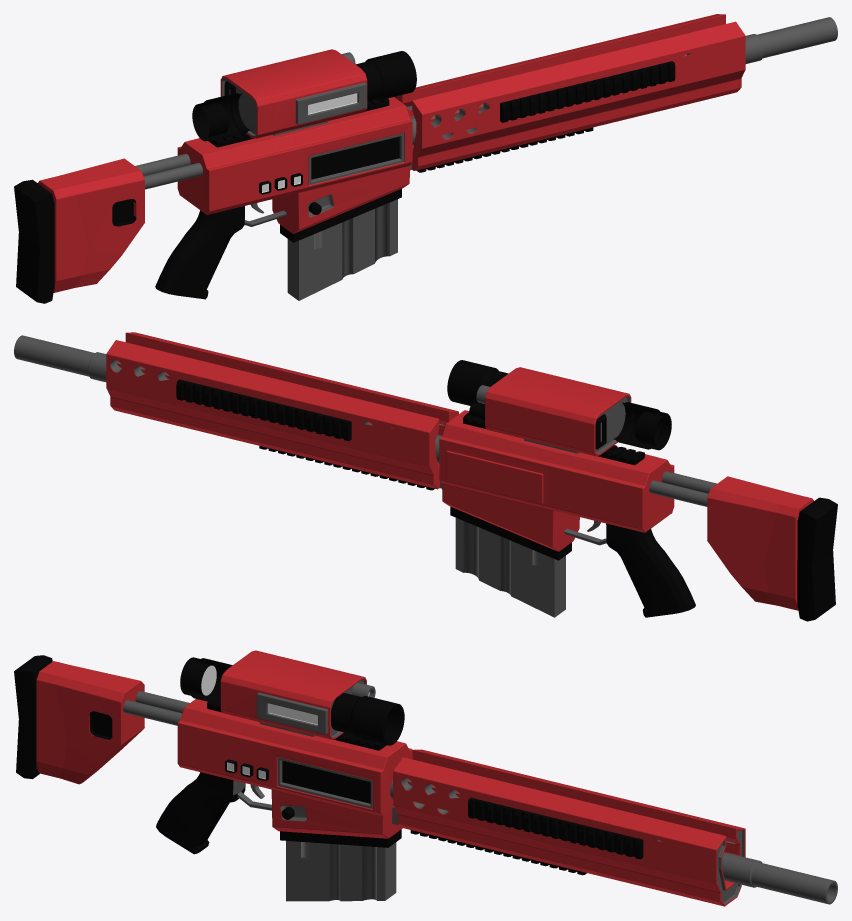
Rendered from Sniper.fbx.
The picture shows the model from 3 angles, top to bottom: view 1: azimuth 30°, elevation 25°; view 2: azimuth 150°, elevation 25°; view 3: azimuth 330°, elevation 25°; orthographic projection.
Parts seen in each view (by area): view 1: Sniper, Sniper_Mag; view 2: Sniper, Sniper_Mag; view 3: Sniper, Sniper_Mag.
Part boxes in pixels (x1,y1,x2,y2): Sniper: (14,14,837,303); Sniper_Mag: (287,199,397,300); Sniper: (14,332,837,621); Sniper_Mag: (455,518,565,617); Sniper: (14,650,837,906); Sniper_Mag: (286,841,396,901).
Size of the model in its own units: 2210 by 584 by 185.
